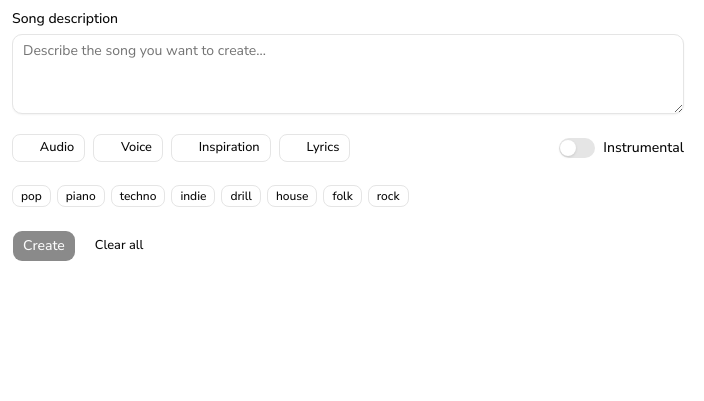
Test: SimpleCreationForm › reveals the lyrics textarea and enables Create from lyrics alone
Click the button "Lyrics". click: (314,148)
box: [279,134,350,162]
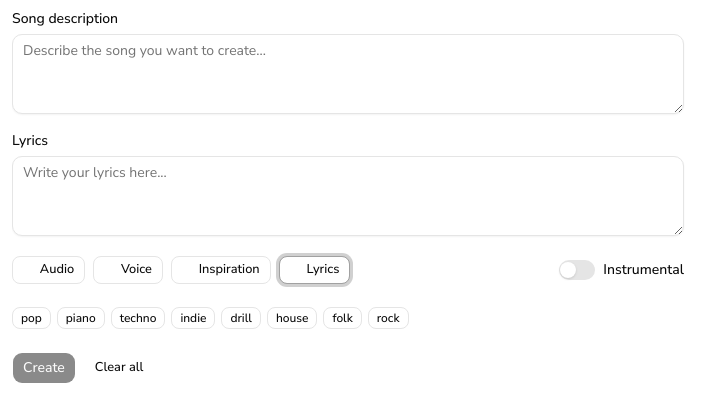
Expected: the text box labelled "Lyrics" is shown
Type "la la la" into the text box labelled "Lyrics". click: (348,196)
box: [12,156,684,236]
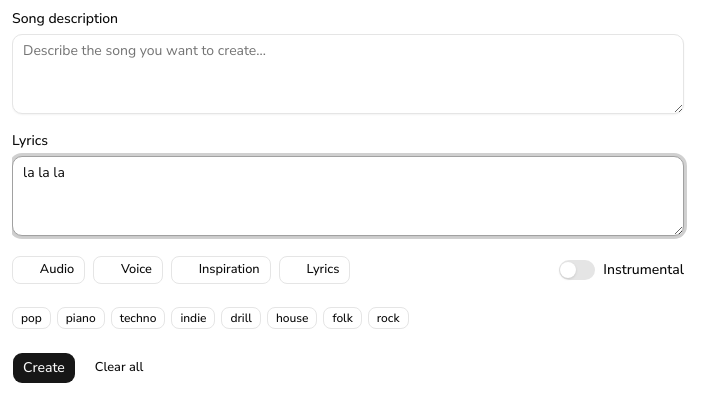
Expected: the button "Create" is enabled, [12,352,76,384]
